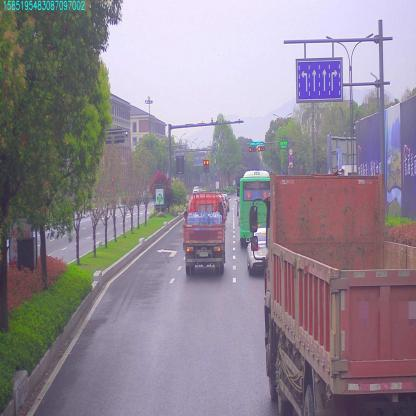traffic-light: (249, 140, 263, 147), (256, 146, 264, 153), (248, 145, 255, 152)
